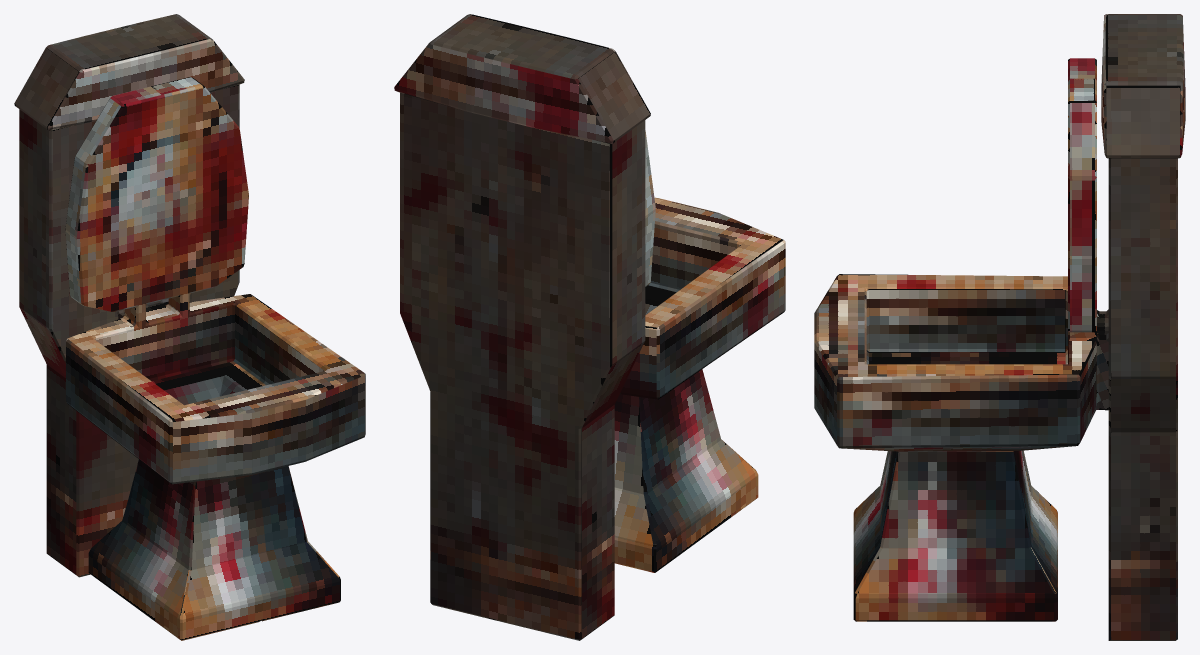
File: wc_toilet.glb
3 views of the same model, side by side, from view 1: azimuth 30°, elevation 25°; view 2: azimuth 150°, elevation 25°; view 3: azimuth 270°, elevation 25° (orthographic). The views are drawn at different scales.
Parts seen in each view (by area): view 1: toilet_seat; view 2: toilet_seat; view 3: toilet_seat.
Part boxes in pixels (x1=…): toilet_seat: x1=14, y1=14, x2=365, y2=640; toilet_seat: x1=394, y1=14, x2=785, y2=640; toilet_seat: x1=814, y1=14, x2=1185, y2=640.
Size of the model in its own units: 0.4318 by 1.06 by 0.6419.
1 material, 1 textured.
